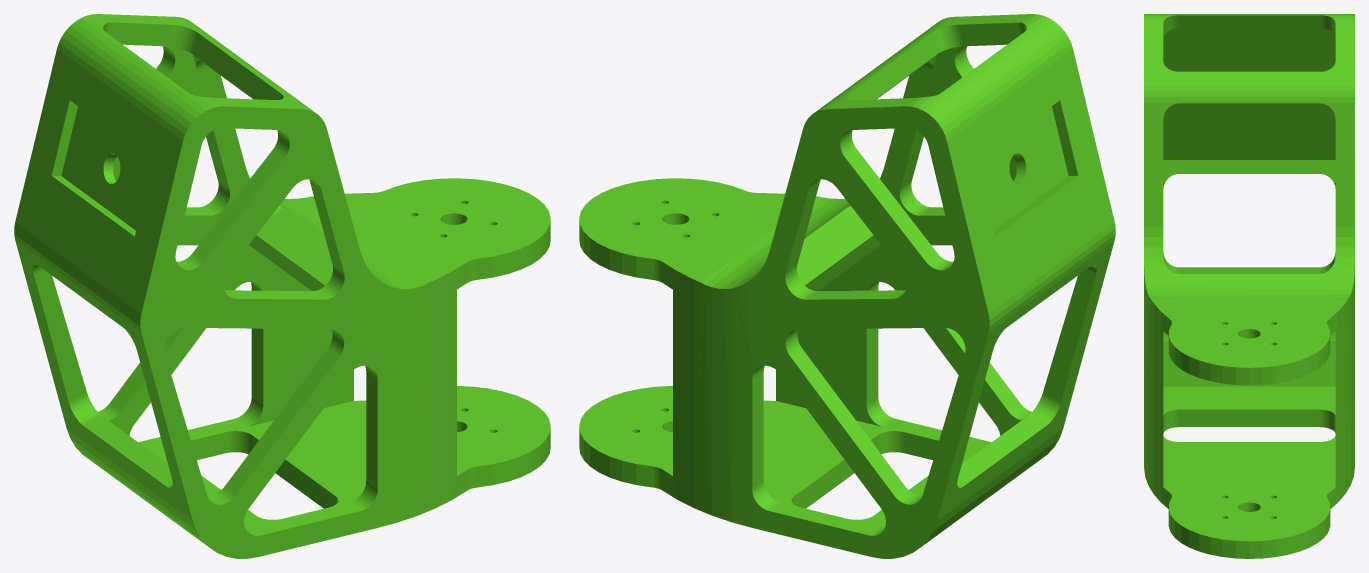
File: hip_v2.dae
The picture shows the model from 3 angles, left to right: view 1: azimuth 30°, elevation 25°; view 2: azimuth 150°, elevation 25°; view 3: azimuth 270°, elevation 25°; orthographic projection. The views are drawn at different scales.
Visible parts, largest first — view 1: thigh; view 2: thigh; view 3: thigh.
Part boxes in pixels (bbox=[...]): thigh: bbox=[14, 14, 550, 558]; thigh: bbox=[579, 14, 1115, 558]; thigh: bbox=[1144, 14, 1354, 558].
Size of the model in its own units: 0.1375 by 0.0652 by 0.1313.
